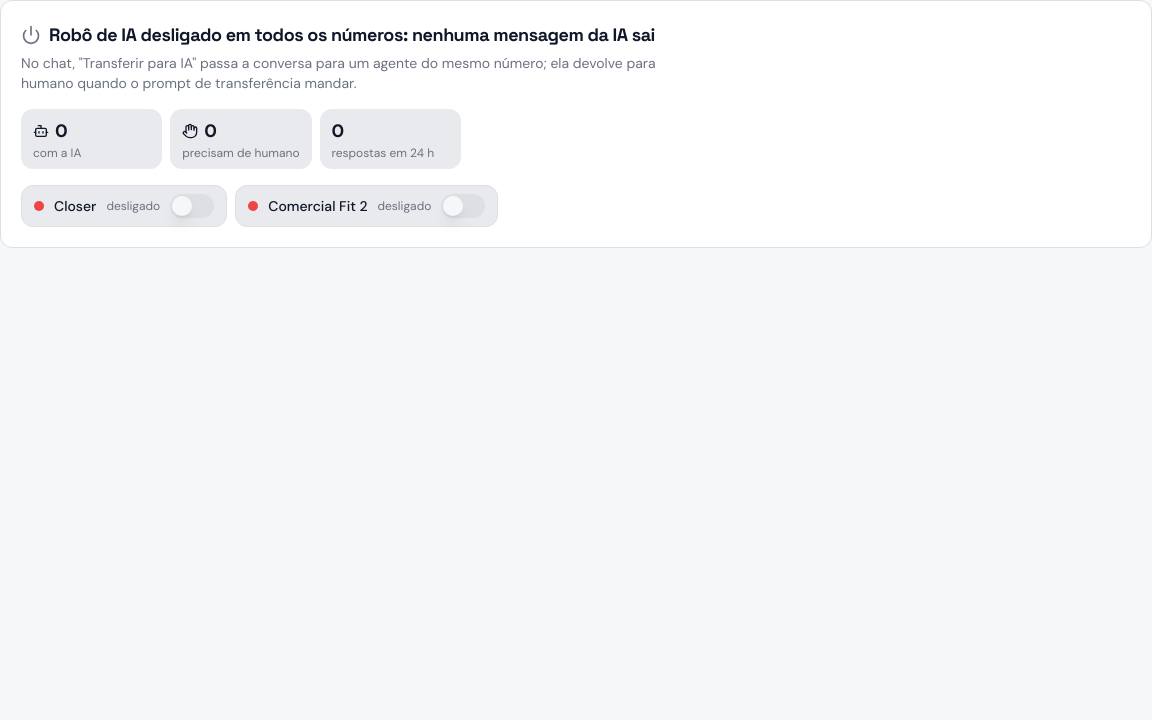
Test: EstadoRoboIA: ligar o robô por número › Cancelar não grava nada
The image size is (1152, 720).
Click the switch named "Robô de IA ligado no Comercial Fit 2" at (463, 206), box [441,194,485,218]
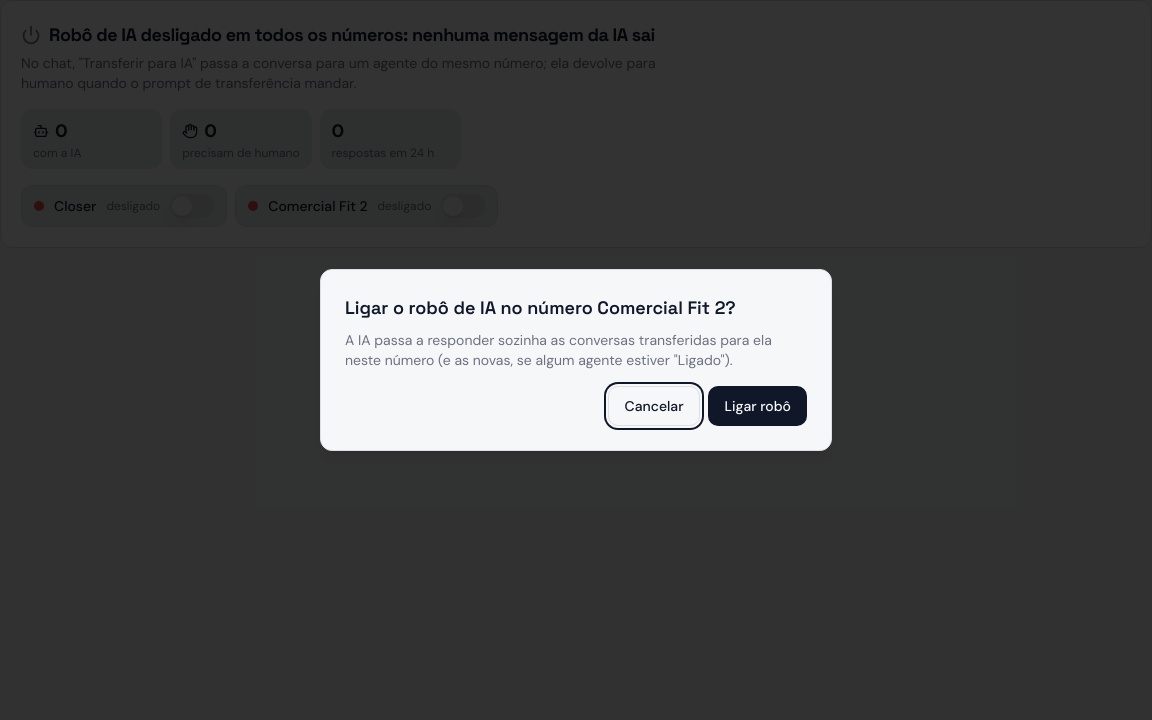
Click the button "Cancelar" at (654, 406), box [608,386,700,426]
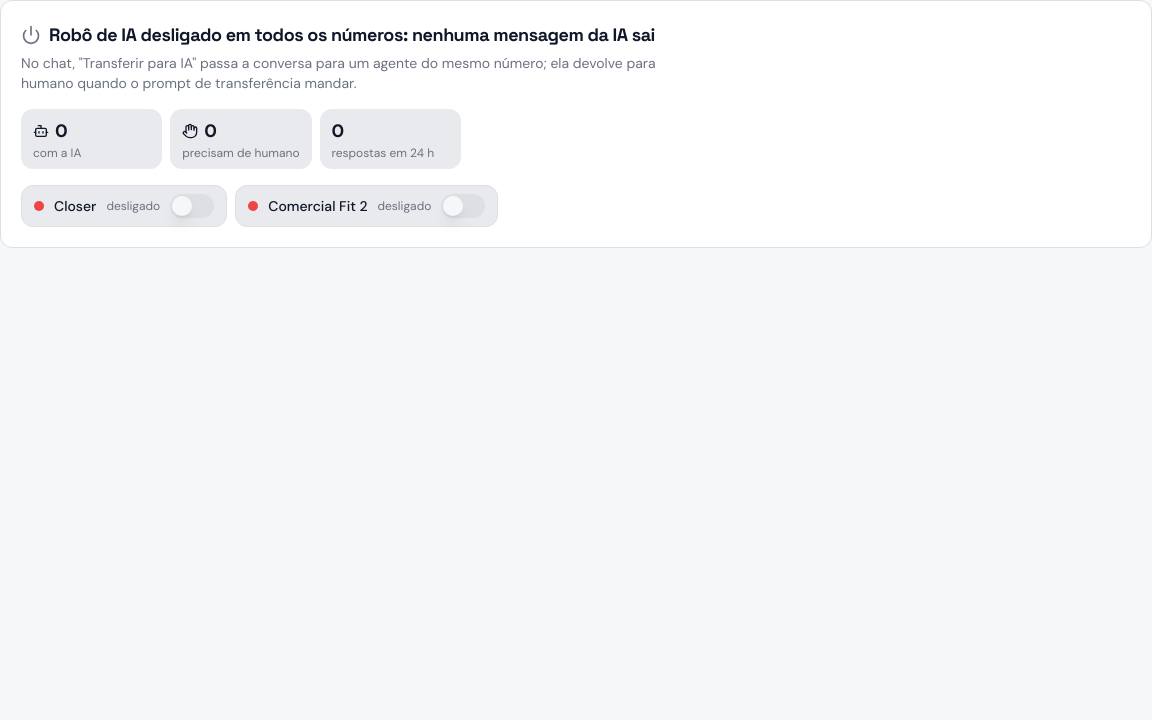
Result: the dialog with test id "confirmar-ligar-robo" is gone
